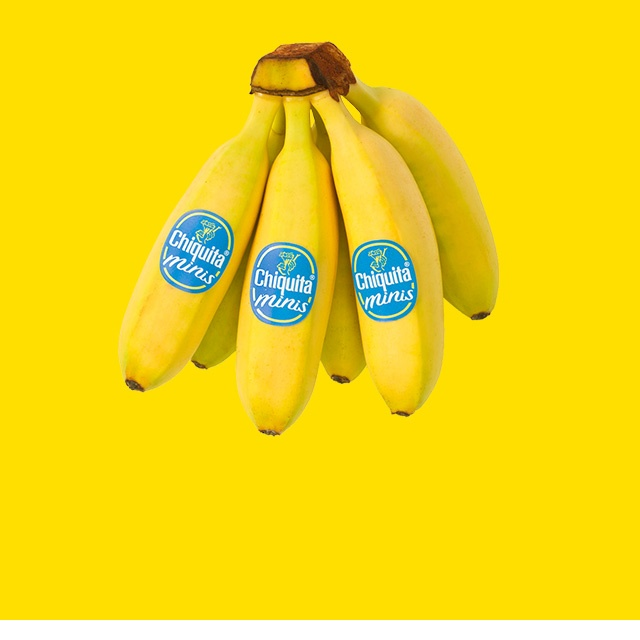chuoi: (341, 75, 501, 319), (121, 132, 265, 398), (327, 128, 445, 415), (240, 143, 339, 439), (315, 247, 368, 385)
